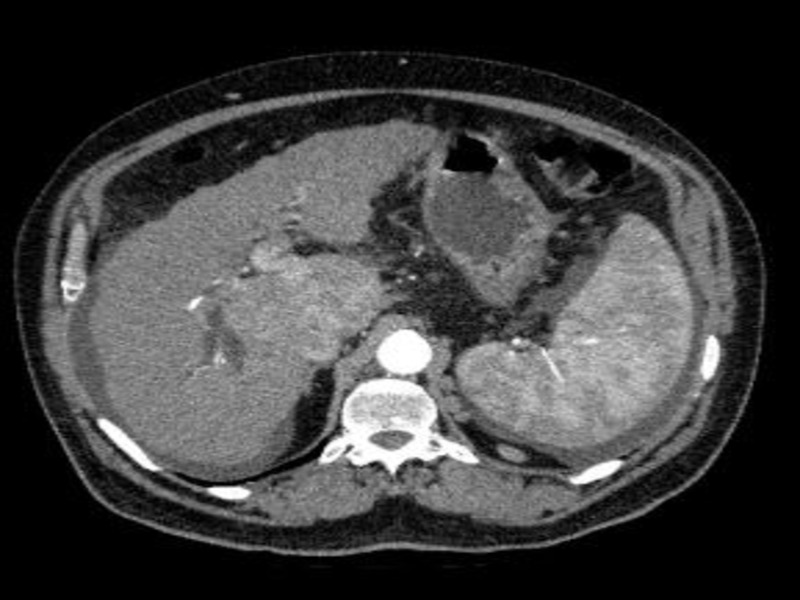tumor: (316, 324, 482, 480)
